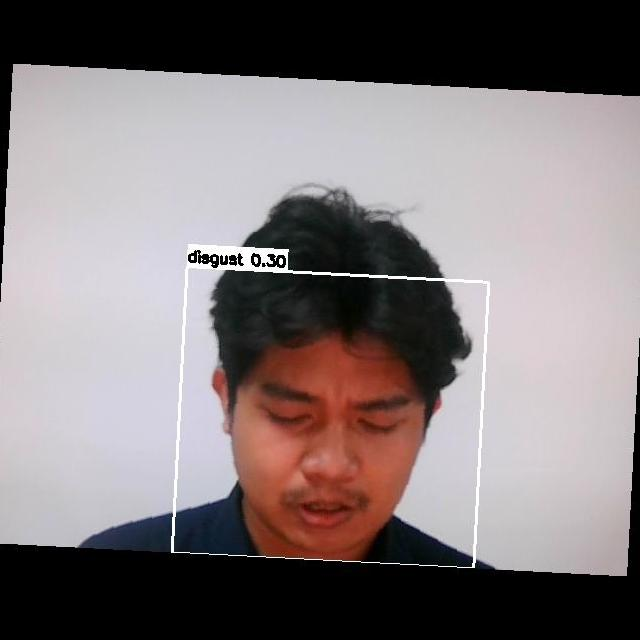Angry: (240, 367, 423, 535)
